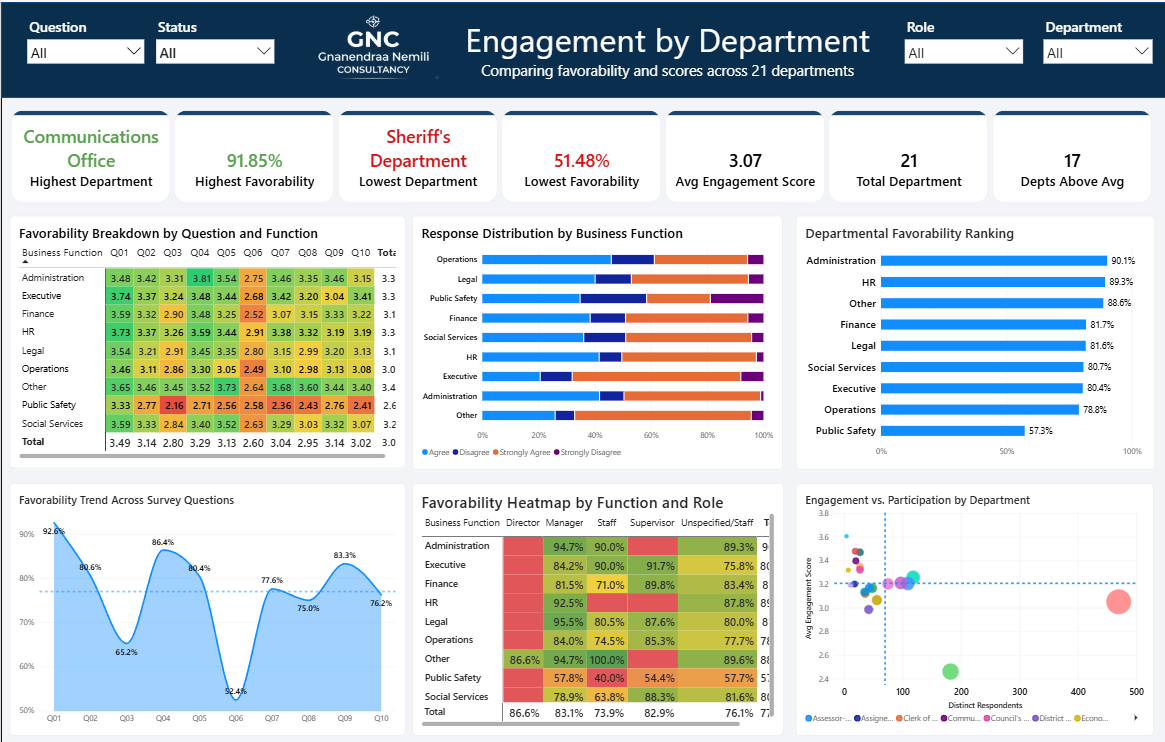

Layout of this report page (visuals, bound fields, positions):
{"tool":"powerbi","page":{"name":"Engagement by Department","canvas":[2110,1350],"ordinal":1},"visuals":[{"type":"shape","box":[0,0,2109.5,173.9],"z":0},{"type":"slicer","fields":{"Values":["HR Survey Reponses.Role"]},"box":[1630,27.3,223.6,119.3],"z":1000},{"type":"slicer","fields":{"Values":["HR Survey Reponses.Department"]},"box":[1880.9,27.3,206.2,119.3],"z":2000},{"type":"slicer","fields":{"Values":["HR Survey Reponses.Question"]},"box":[42.2,27.3,221.1,119.3],"z":3000},{"type":"slicer","fields":{"Values":["HR Survey Reponses.Status"]},"box":[275.8,27.3,223.6,119.3],"z":4000},{"type":"textbox","box":[832.4,27.3,747.9,119.3],"z":5000},{"type":"cardVisual","fields":{"Data":["HR Survey Reponses.Highest Department","HR Survey Reponses.Highest Favorability","HR Survey Reponses.Lowest Department","HR Survey Reponses.Lowest Favorability","HR Survey Reponses.Avg Engagement Score","Count(HR Survey Reponses.Department)","HR Survey Reponses.Departments Above Org Avg"]},"box":[17.4,196.3,2069.8,166.5],"z":6000},{"type":"image","box":[499.4,9.9,347.9,151.6],"z":7000},{"type":"clusteredBarChart","title":"Departmental Favorability Ranking","fields":{"Category":["HR Survey Reponses.Business Function"],"Y":["HR Survey Reponses.% Favorable"]},"box":[1438.9,387.7,649.3,459],"z":8000},{"type":"hundredPercentStackedBarChart","title":"Response Distribution by Business Function","fields":{"Category":["HR Survey Reponses.Business Function"],"Series":["HR Survey Reponses.Response Text"],"Y":["CountNonNull(HR Survey Reponses.Response)"]},"box":[744.4,387.7,670.7,459],"z":9000},{"type":"pivotTable","title":"Favorability Breakdown by Question and Function","fields":{"Columns":["HR Survey Reponses.Question Label (Padded)","HR Survey Reponses.Question"],"Rows":["HR Survey Reponses.Business Function"],"Values":["HR Survey Reponses.Avg Engagement Score"]},"box":[16.6,387.7,715.9,456.6],"z":10000},{"type":"scatterChart","title":"Engagement vs. Participation by Department","fields":{"Category":["HR Survey Reponses.Department"],"Series":["HR Survey Reponses.Department"],"Size":["HR Survey Reponses.Department Headcount"],"X":["HR Survey Reponses.Distinct Respondents"],"Y":["HR Survey Reponses.Avg Engagement Score"]},"box":[1438.9,870.5,646.9,456.6],"z":11000},{"type":"lineChart","title":"Favorability Trend Across Survey Questions","fields":{"Category":["HR Survey Reponses.Question Label (Padded)"],"Y":["HR Survey Reponses.Org Avg % Favorable"]},"box":[16.6,870.5,715.9,456.6],"z":12000},{"type":"pivotTable","title":"Favorability Heatmap by Function and Role","fields":{"Columns":["HR Survey Reponses.Role"],"Rows":["HR Survey Reponses.Business Function"],"Values":["HR Survey Reponses.% Favorable"]},"box":[744,870,672,457],"z":13000}]}

Visuals, with their boxes in screenshot pixels (x1, y1, x2, y2), scaled from the page's 2110x1350 canvas onto the 1165x742 screenshot:
shape: 0:0:1164:96
slicer - HR Survey Reponses.Role: 900:15:1023:81
slicer - HR Survey Reponses.Department: 1039:15:1152:81
slicer - HR Survey Reponses.Question: 23:15:145:81
slicer - HR Survey Reponses.Status: 152:15:276:81
textbox: 460:15:873:81
cardVisual - HR Survey Reponses.Highest Department x HR Survey Reponses.Highest Favorability: 10:108:1152:199
image: 276:5:468:89
"Departmental Favorability Ranking" clusteredBarChart: 794:213:1153:465
"Response Distribution by Business Function" hundredPercentStackedBarChart: 411:213:781:465
"Favorability Breakdown by Question and Function" pivotTable: 9:213:404:464
"Engagement vs. Participation by Department" scatterChart: 794:478:1152:729
"Favorability Trend Across Survey Questions" lineChart: 9:478:404:729
"Favorability Heatmap by Function and Role" pivotTable: 411:478:782:729
